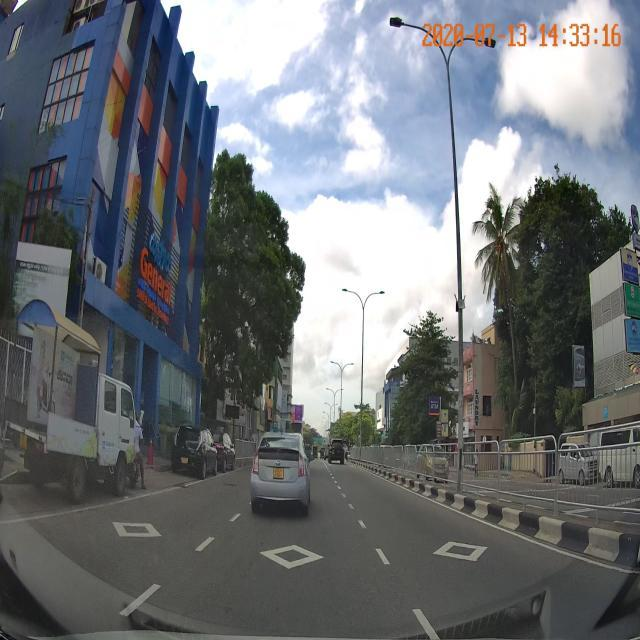diamond: (165, 516, 399, 573)
